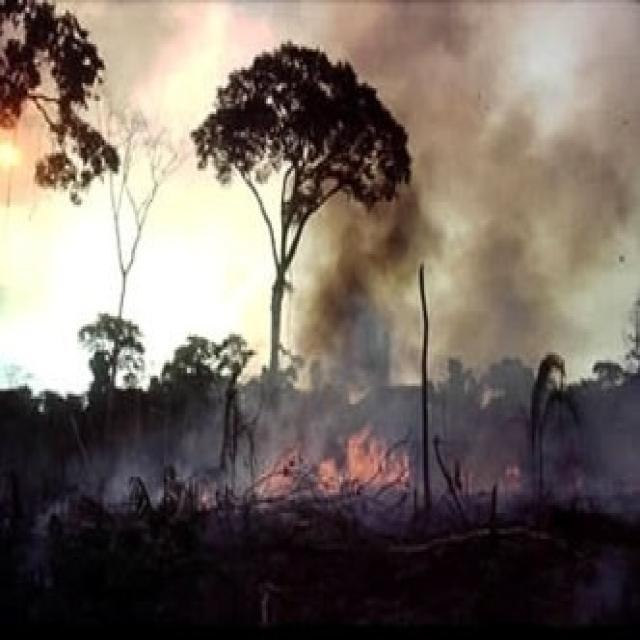Smoke: (294, 0, 635, 488)
